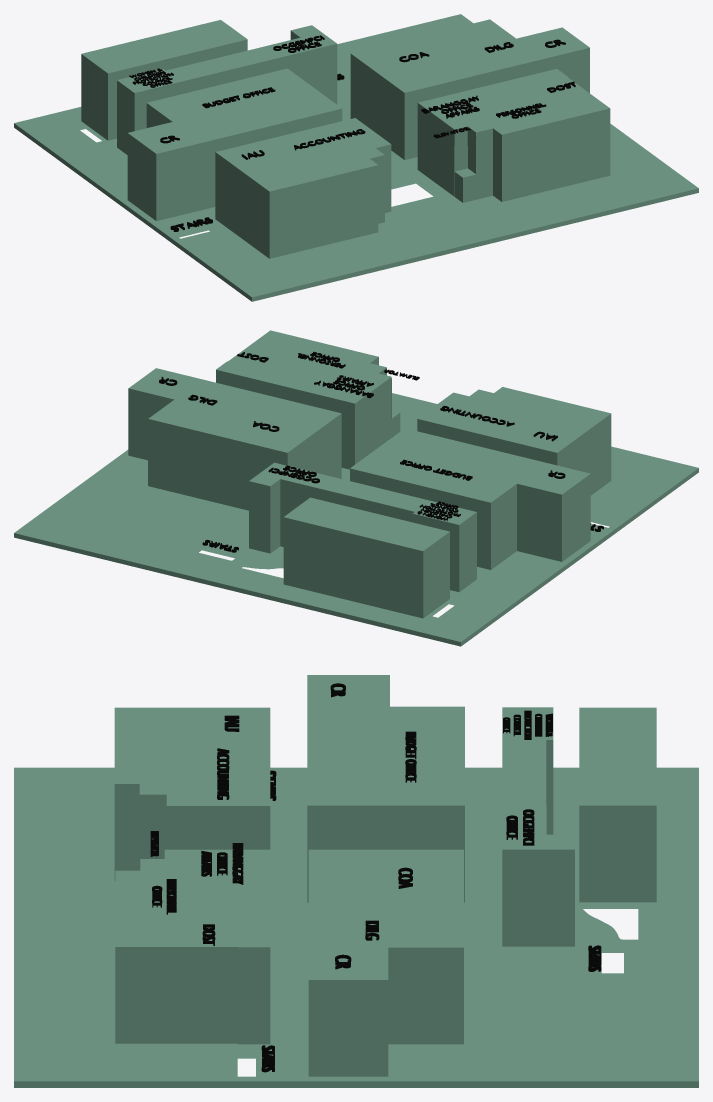
Rendered from OCH 3FWL.glb.
3 renders of one model, top to bottom at view 1: azimuth 30°, elevation 25°; view 2: azimuth 150°, elevation 25°; view 3: azimuth 270°, elevation 25°, orthographic. The views are drawn at different scales.
Parts seen in each view (by area): view 1: 3F, BAO, WCPCO; view 2: 3F, BAO, WCPCO; view 3: 3F, BAO, WCPCO, OCGEMPCI.
Boxes of the visible parts, x1,y1,x2,y2 form: 3F: (14, 14, 698, 301); BAO: (421, 95, 479, 118); WCPCO: (129, 68, 173, 87); 3F: (14, 330, 698, 646); BAO: (314, 375, 373, 398); WCPCO: (417, 501, 460, 521); 3F: (14, 675, 698, 1087); BAO: (201, 843, 243, 884); WCPCO: (503, 710, 552, 739); OCGEMPCI: (506, 809, 534, 845).
Size of what is drawn, in the model's own units: 30.12 by 4.74 by 27.78.
